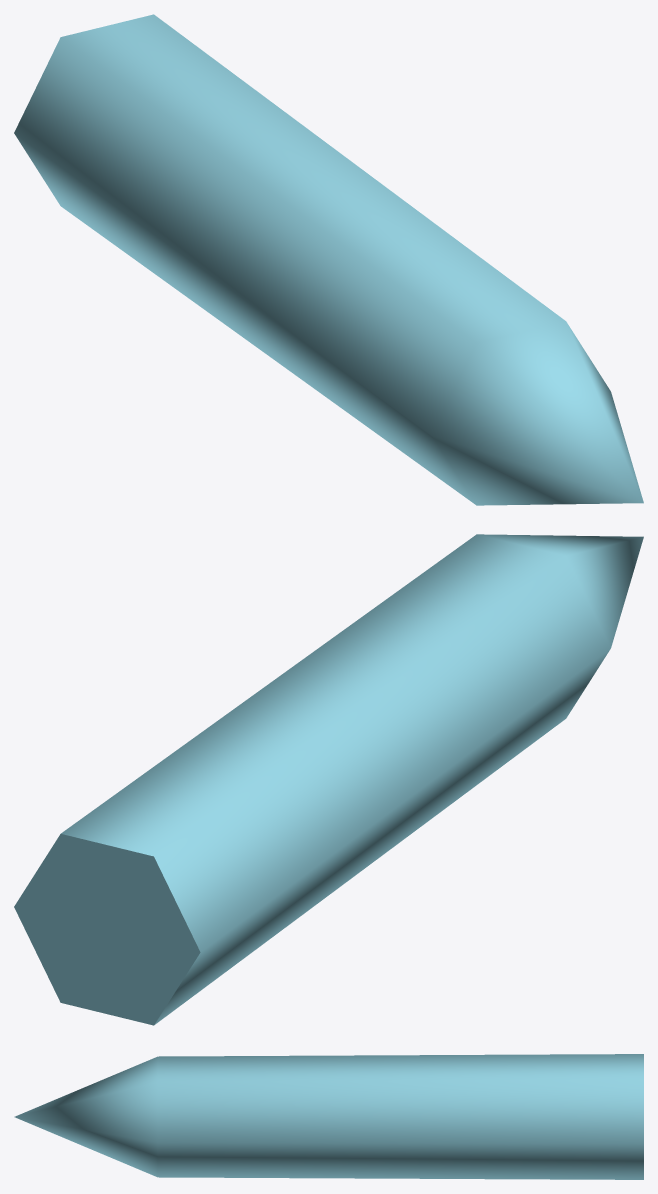
File: AKM_Bullet.FBX
3 renders of one model, top to bottom at view 1: azimuth 30°, elevation 25°; view 2: azimuth 150°, elevation 25°; view 3: azimuth 270°, elevation 25°, orthographic. The views are drawn at different scales.
Parts seen in each view (by area): view 1: AKM_Bullet; view 2: AKM_Bullet; view 3: AKM_Bullet.
Part boxes in pixels (x1,y1,x2,y2): AKM_Bullet: (14, 14, 643, 505); AKM_Bullet: (14, 534, 643, 1025); AKM_Bullet: (14, 1054, 643, 1179).
Size of the model in its own units: 0.125 by 0.1083 by 0.6228.
